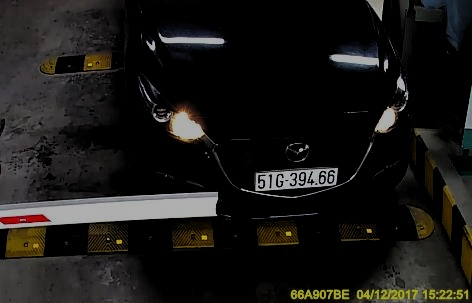plate: (251, 165, 338, 192)
